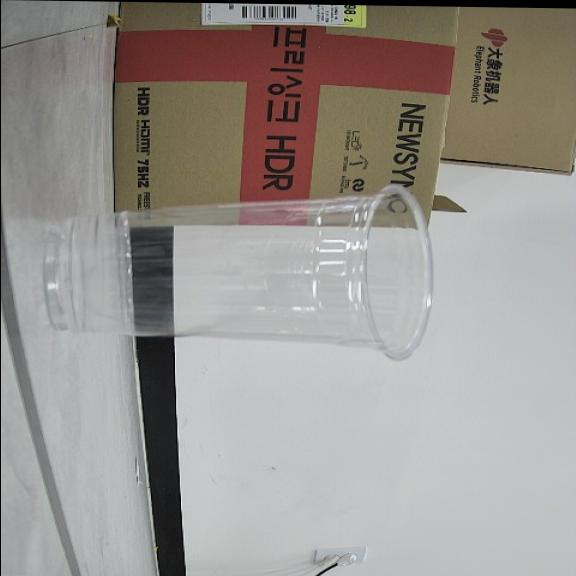Plastik: (44, 186, 430, 359)
